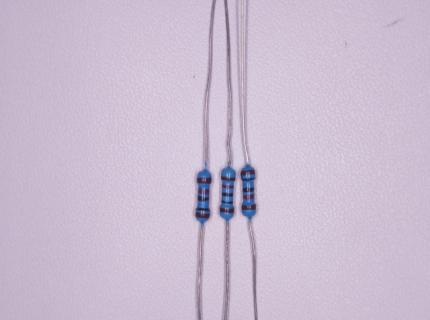Black band: (195, 206, 210, 212), (241, 176, 255, 182), (242, 187, 255, 193), (197, 195, 209, 201), (221, 192, 233, 197), (221, 200, 233, 204)
Brown band: (240, 168, 256, 176), (195, 212, 211, 220), (219, 207, 235, 214), (241, 204, 257, 211), (197, 177, 212, 184), (220, 176, 236, 182)
Red band: (197, 188, 210, 195), (243, 194, 255, 199), (222, 184, 234, 189)
